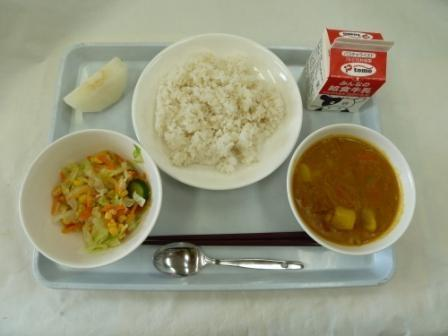Apple: (55, 53, 141, 122)
Curry: (280, 125, 411, 257)
Milk: (298, 28, 395, 120)
Rice: (141, 40, 291, 181)
Salad: (22, 140, 169, 255)
